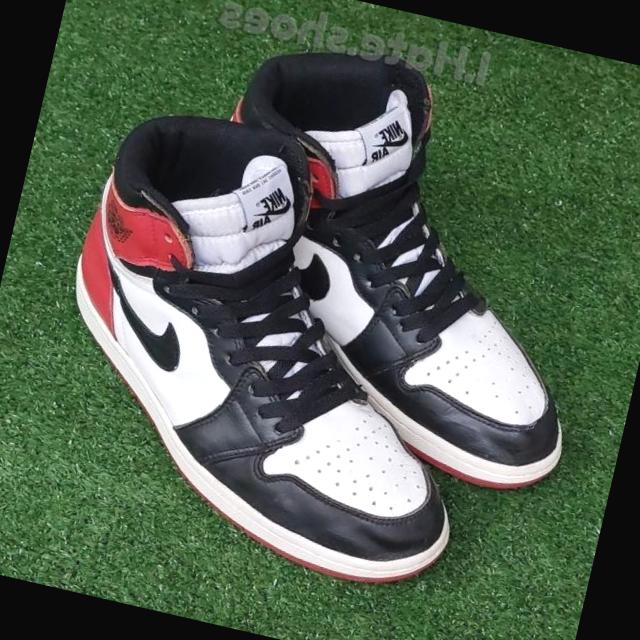nike_fake_jordan: (18, 91, 533, 605), (163, 27, 640, 505)
